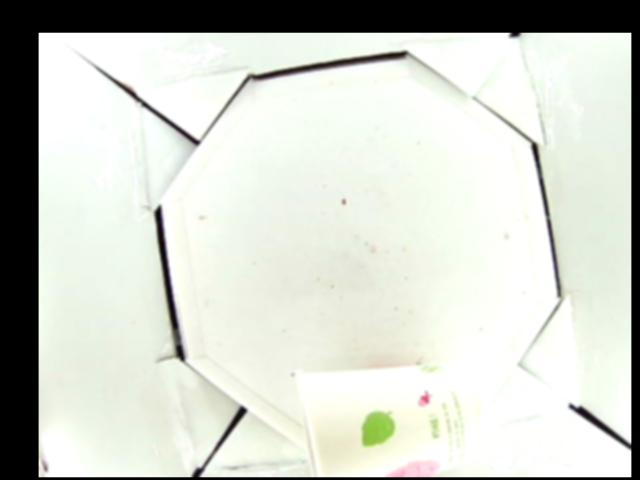Cup: (291, 362, 485, 477)
